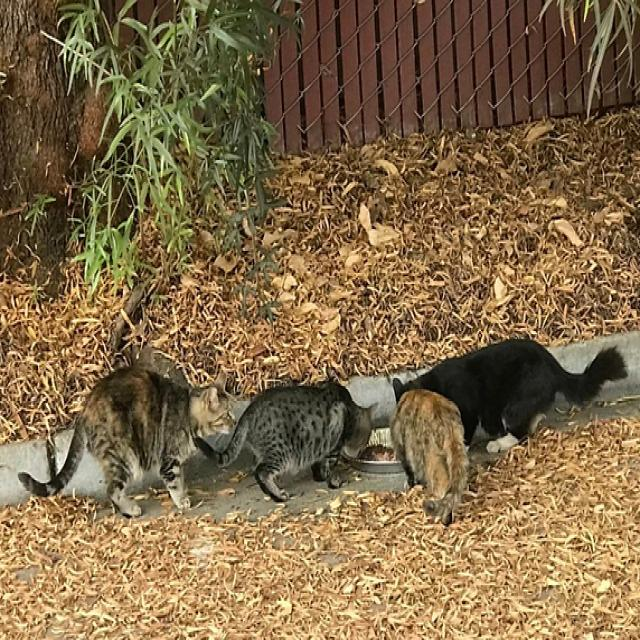cat: (19, 365, 234, 516), (394, 338, 627, 451), (196, 382, 374, 501), (390, 391, 469, 523)
